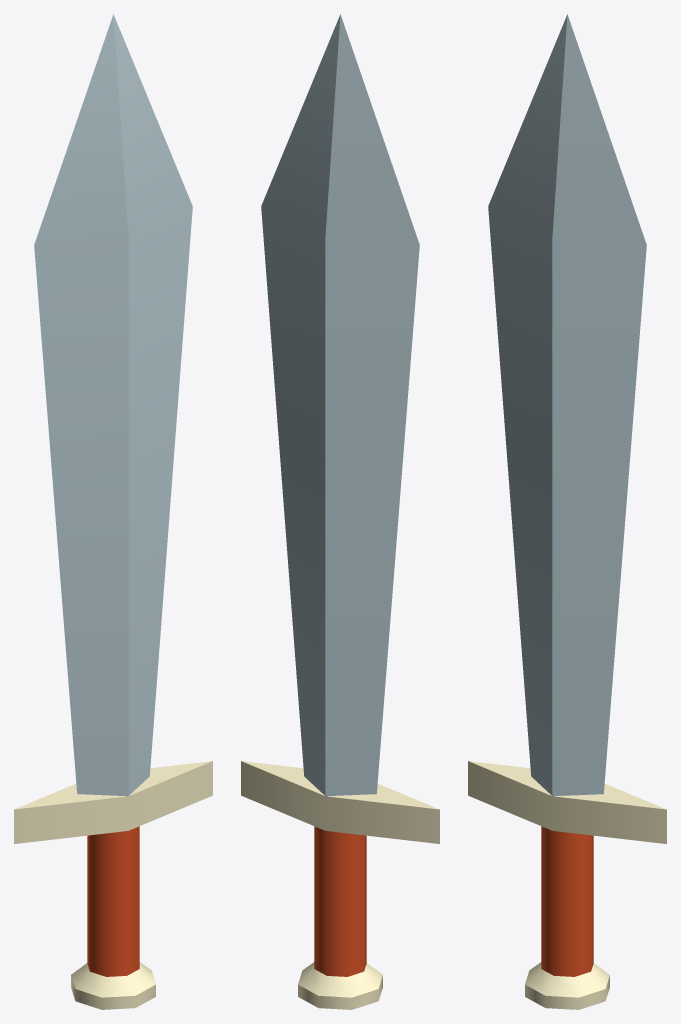
The model's file is sword2.fbx.
The picture shows the model from 3 angles, left to right: view 1: azimuth 30°, elevation 25°; view 2: azimuth 150°, elevation 25°; view 3: azimuth 330°, elevation 25°; orthographic projection.
Parts seen in each view (by area): view 1: sword; view 2: sword; view 3: sword.
Boxes of the visible parts, x1,y1,x2,y2 form: sword: (14, 14, 212, 1009); sword: (241, 14, 439, 1009); sword: (468, 14, 666, 1009).
Bounding box in the file's own units: 94.49 × 444 × 36.23.
